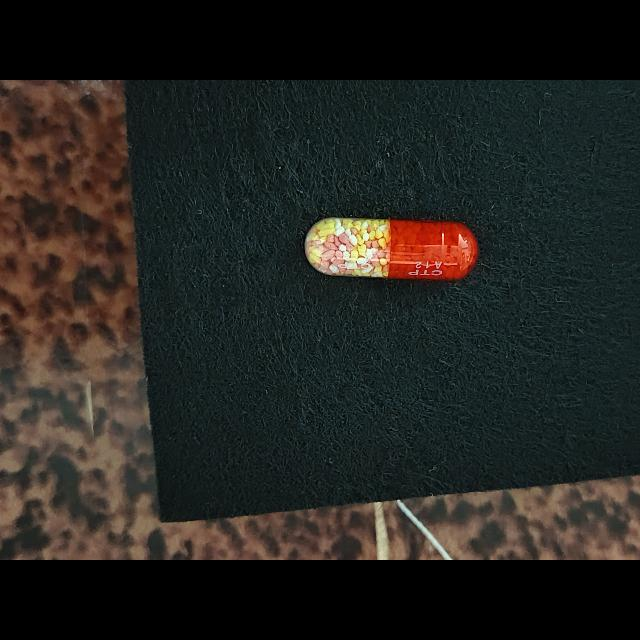Intact Capsule: (305, 217, 478, 280)
